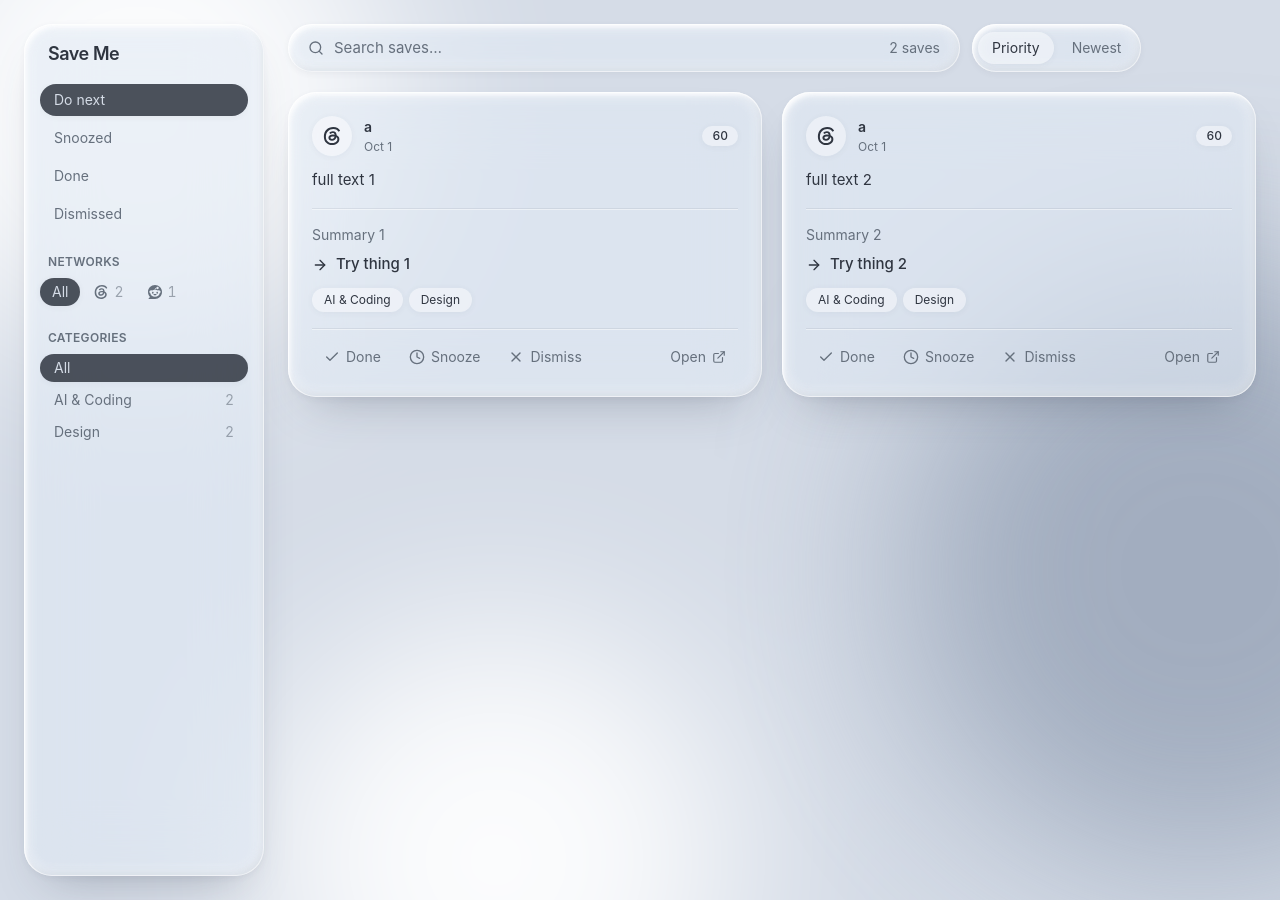
Test: puts a failed update back and shows the error
The width and height of the screenshot is (1280, 900).
Click the button "Dismiss" below "Try thing 1": (545,357) [496, 341, 594, 373]
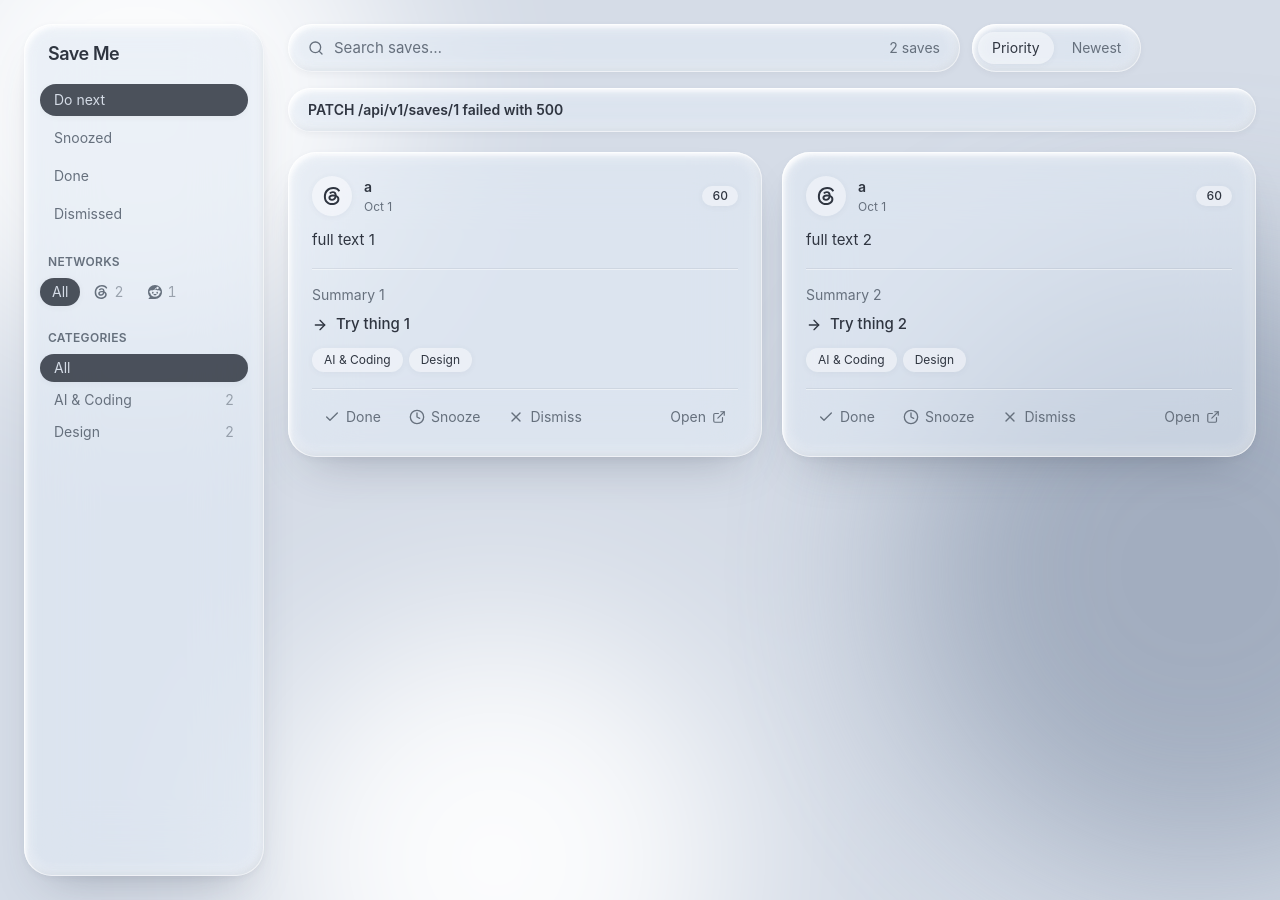
Expected: the text "Summary 1" is shown, [312, 286, 385, 303]
Expected: the text "PATCH /api/v1/saves/1 failed with 500" is shown, [288, 88, 1256, 132]
